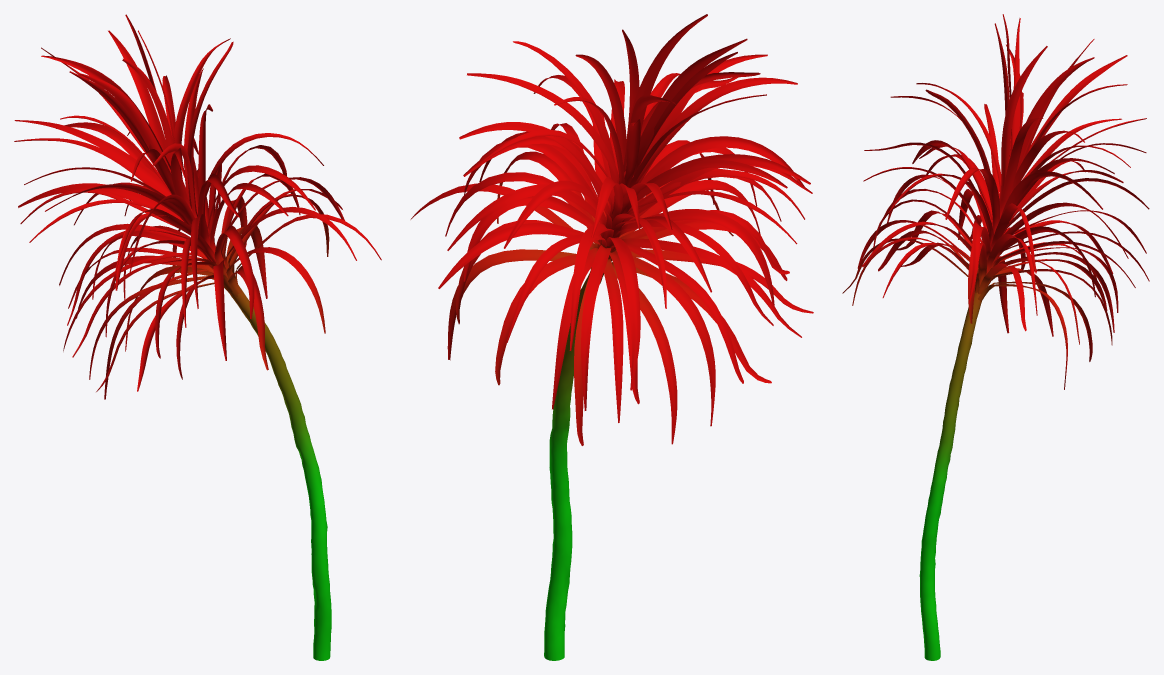
Rendered from Dragon Tree_LOD0_Var3_wfypejzha.fbx.
The picture shows the model from 3 angles, left to right: view 1: azimuth 30°, elevation 25°; view 2: azimuth 150°, elevation 25°; view 3: azimuth 270°, elevation 25°; orthographic projection. The views are drawn at different scales.
Parts seen in each view (by area): view 1: _blt9_Var3_LOD0; view 2: _blt9_Var3_LOD0; view 3: _blt9_Var3_LOD0.
Part boxes in pixels (x1=…): _blt9_Var3_LOD0: x1=14, y1=14, x2=381, y2=660; _blt9_Var3_LOD0: x1=410, y1=14, x2=813, y2=660; _blt9_Var3_LOD0: x1=842, y1=14, x2=1149, y2=660.
Bounding box in the file's own units: 53.54 × 97.56 × 48.47.
